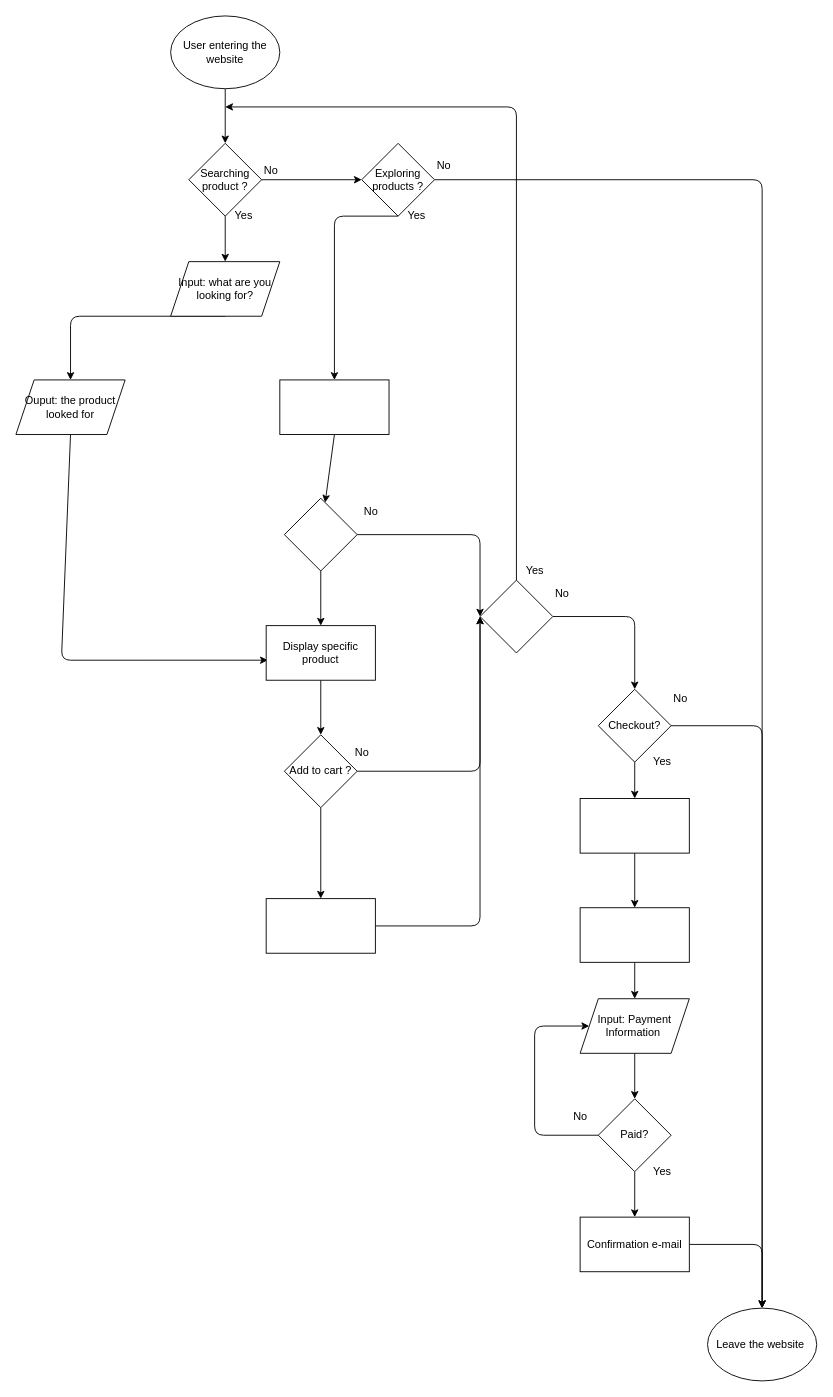
This 833x1397 diagram has some shape labels left out. The shapes that lost their labels are listed below. From the top down, each one's centre as x and y in pixels, then its label:
At point (334, 407): "Looking over products".
At point (320, 534): "Click on specific product?".
At point (516, 616): "Continuing shopping?".
At point (634, 825): "Card Screen".
At point (320, 925): "Added cart confirmation".
At point (634, 934): "Payment Screen".
